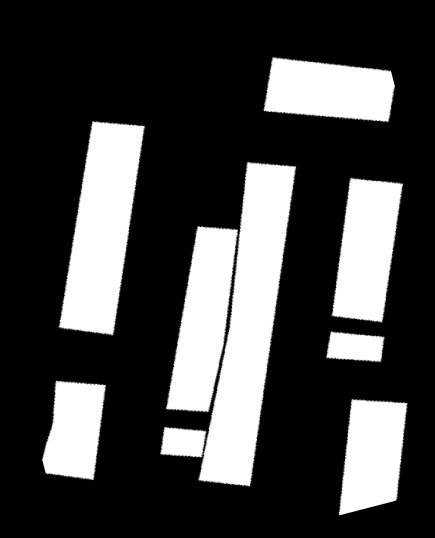parkingspot: (198, 162, 296, 486), (59, 121, 145, 335), (166, 226, 238, 412), (332, 178, 403, 322), (264, 57, 395, 122), (339, 399, 407, 515), (42, 381, 106, 480), (326, 332, 384, 362), (160, 427, 206, 457)
